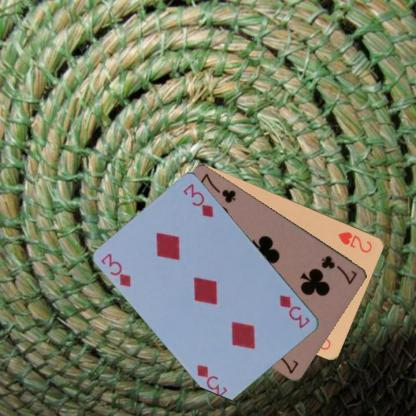2h: (335, 229, 374, 254)
3d: (98, 250, 133, 288), (277, 292, 311, 330)
7c: (319, 252, 358, 286)
